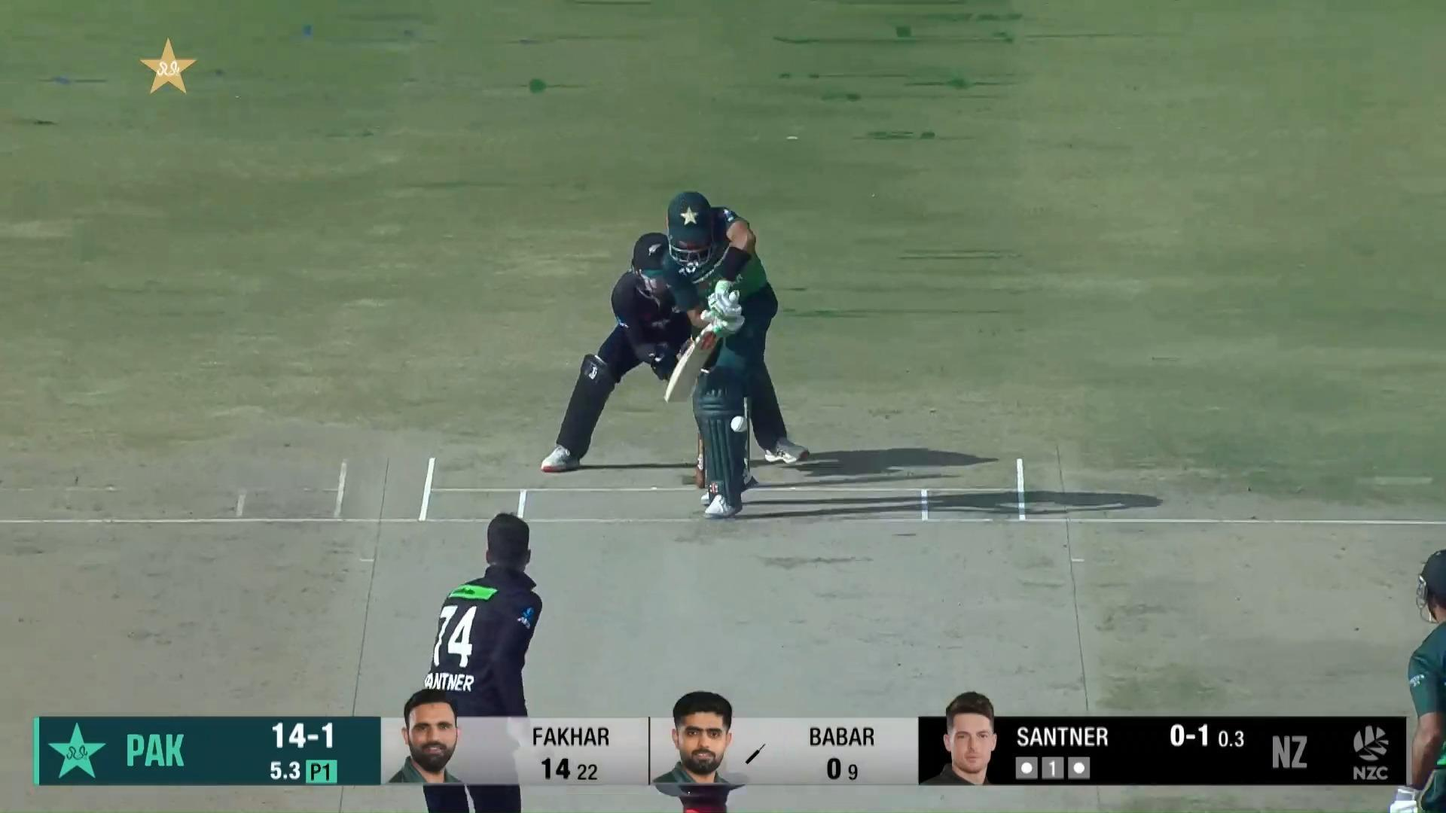BM 1: (662, 190, 810, 521)
BO: (413, 509, 549, 813)
